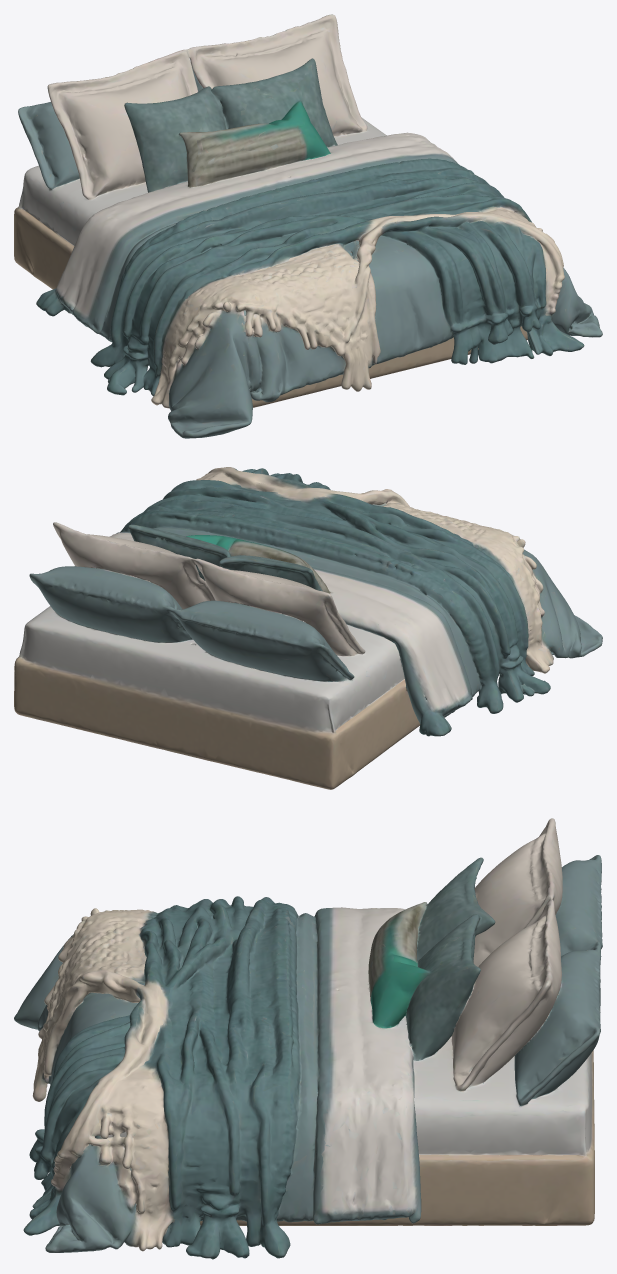
Rendered from Upholstered Platform Bed with Layered Bohemian Bedding [Oz9tD-].glb.
3 renders of one model, top to bottom at view 1: azimuth 30°, elevation 25°; view 2: azimuth 150°, elevation 25°; view 3: azimuth 270°, elevation 25°, orthographic. The views are drawn at different scales.
Parts seen in each view (by area): view 1: world; view 2: world; view 3: world.
Boxes of the visible parts, x1,y1,x2,y2 form: world: (14,14,602,438); world: (14,467,602,789); world: (14,818,602,1259).
Bounding box in the file's own units: 1 × 0.4139 × 0.9382.
Materials: 1 (1 with a texture image).
